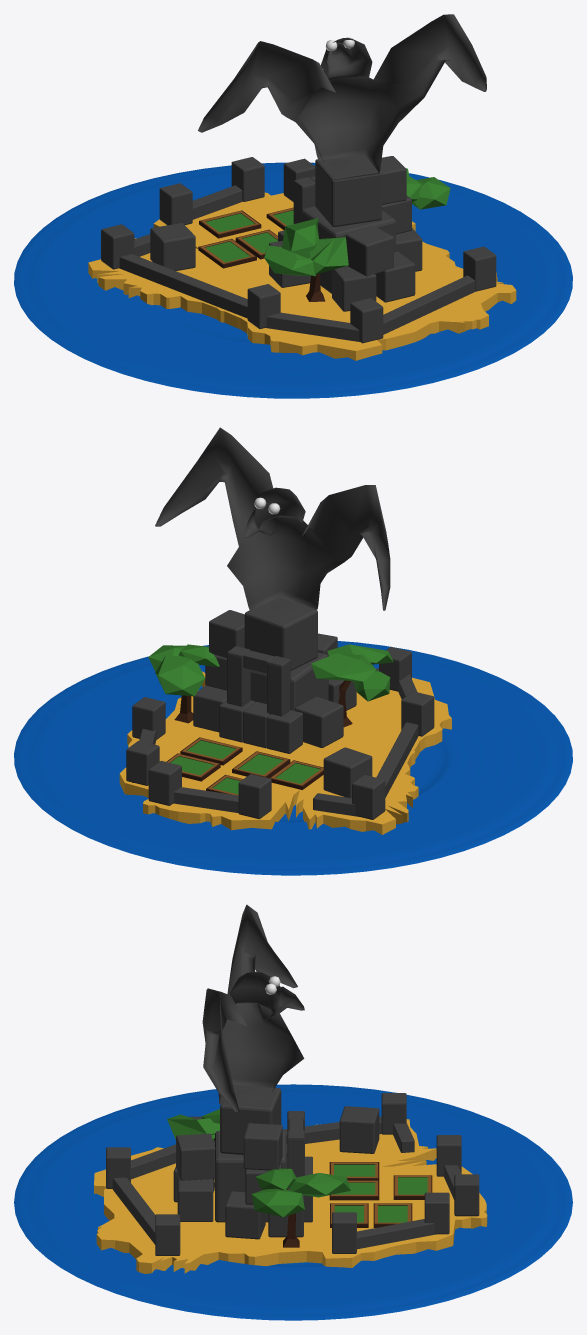
The model's file is island_Haven.gltf.
The picture shows the model from 3 angles, top to bottom: view 1: azimuth 30°, elevation 25°; view 2: azimuth 150°, elevation 25°; view 3: azimuth 270°, elevation 25°; orthographic projection.
Parts seen in each view (by area): view 1: water_Haven, Bird, island_Haven, Stone.001, Tree.001, Plane.004, Stone.022, Stone.010, Stone.015, Stone.021, Stone.020, Stone.007 (+16 smaller); view 2: water_Haven, Bird, island_Haven, Plane.004, Stone.001, Tree.001, Tree, Stone, Stone.004, Stone.015, Stone.014, Stone.009 (+16 smaller); view 3: water_Haven, island_Haven, Bird, Plane.004, Tree, Stone.001, Stone, Stone.015, Stone.009, Stone.010, Stone.006, Stone.005 (+15 smaller).
Boxes of the visible parts, box(x1,y1,x2,y2) form: water_Haven: box(14, 162, 572, 398); Bird: box(198, 14, 486, 179); island_Haven: box(88, 192, 516, 360); Stone.001: box(315, 154, 381, 227); Tree.001: box(264, 218, 348, 301); Plane.004: box(198, 207, 293, 268); Stone.022: box(119, 254, 247, 318); Stone.010: box(345, 225, 393, 276); Stone.015: box(150, 223, 195, 270); Stone.021: box(383, 275, 475, 334); Stone.020: box(266, 312, 359, 341); Stone.007: box(332, 266, 376, 311); water_Haven: box(14, 641, 572, 875); Bird: box(155, 427, 390, 619); island_Haven: box(119, 671, 451, 834); Plane.004: box(166, 737, 323, 795); Stone.001: box(244, 597, 317, 670); Tree.001: box(311, 644, 393, 727); Tree: box(148, 644, 219, 723); Stone: box(250, 652, 328, 710); Stone.004: box(295, 696, 343, 747); Stone.015: box(323, 747, 372, 797); Stone.014: box(266, 710, 302, 753); Stone.009: box(209, 610, 244, 658); water_Haven: box(14, 1084, 572, 1320); island_Haven: box(94, 1119, 487, 1273); Bird: box(202, 904, 304, 1112); Plane.004: box(329, 1162, 432, 1227); Tree: box(251, 1168, 350, 1247); Stone.001: box(220, 1084, 281, 1154); Stone: box(215, 1131, 286, 1222); Stone.015: box(339, 1106, 379, 1153); Stone.009: box(243, 1123, 282, 1170); Stone.010: box(176, 1133, 215, 1180); Stone.006: box(177, 1176, 213, 1221); Stone.005: box(225, 1191, 265, 1239).
Size of the model in its own units: 820 by 437 by 820.
